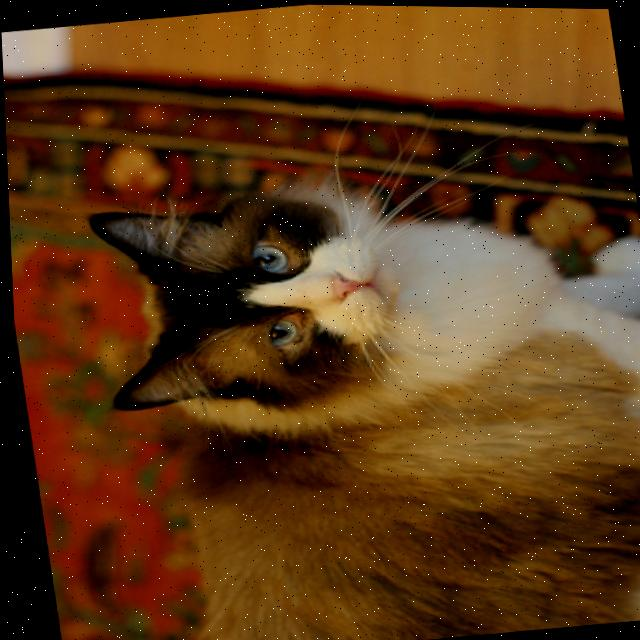Ragdoll: (68, 147, 640, 640)
